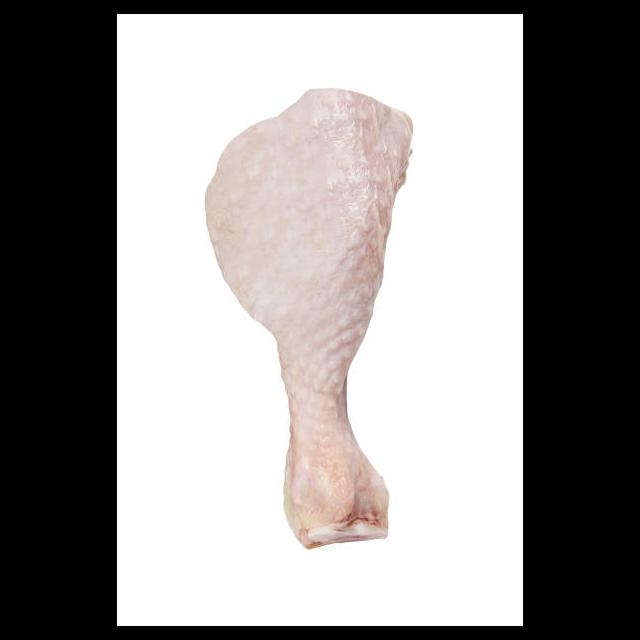chicken: (202, 85, 417, 554)
